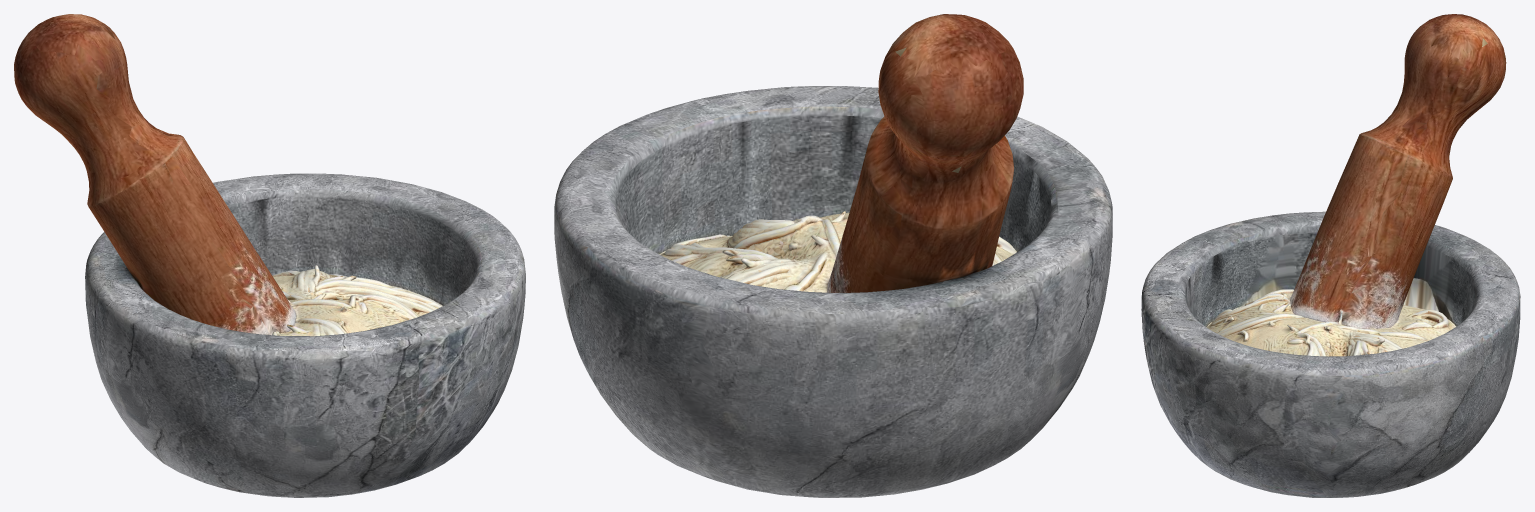
File: mortar.glb
The picture shows the model from 3 angles, left to right: view 1: azimuth 30°, elevation 25°; view 2: azimuth 150°, elevation 25°; view 3: azimuth 270°, elevation 25°; orthographic projection. The views are drawn at different scales.
Visible parts, largest first — view 1: mortar; view 2: mortar; view 3: mortar.
Part boxes in pixels (x1,y1,x2,y2): mortar: [14, 14, 525, 497]; mortar: [554, 14, 1112, 497]; mortar: [1141, 14, 1520, 497].
Bounding box in the file's own units: 1.04 × 1 × 0.9585.
Materials: 1 (1 with a texture image).
